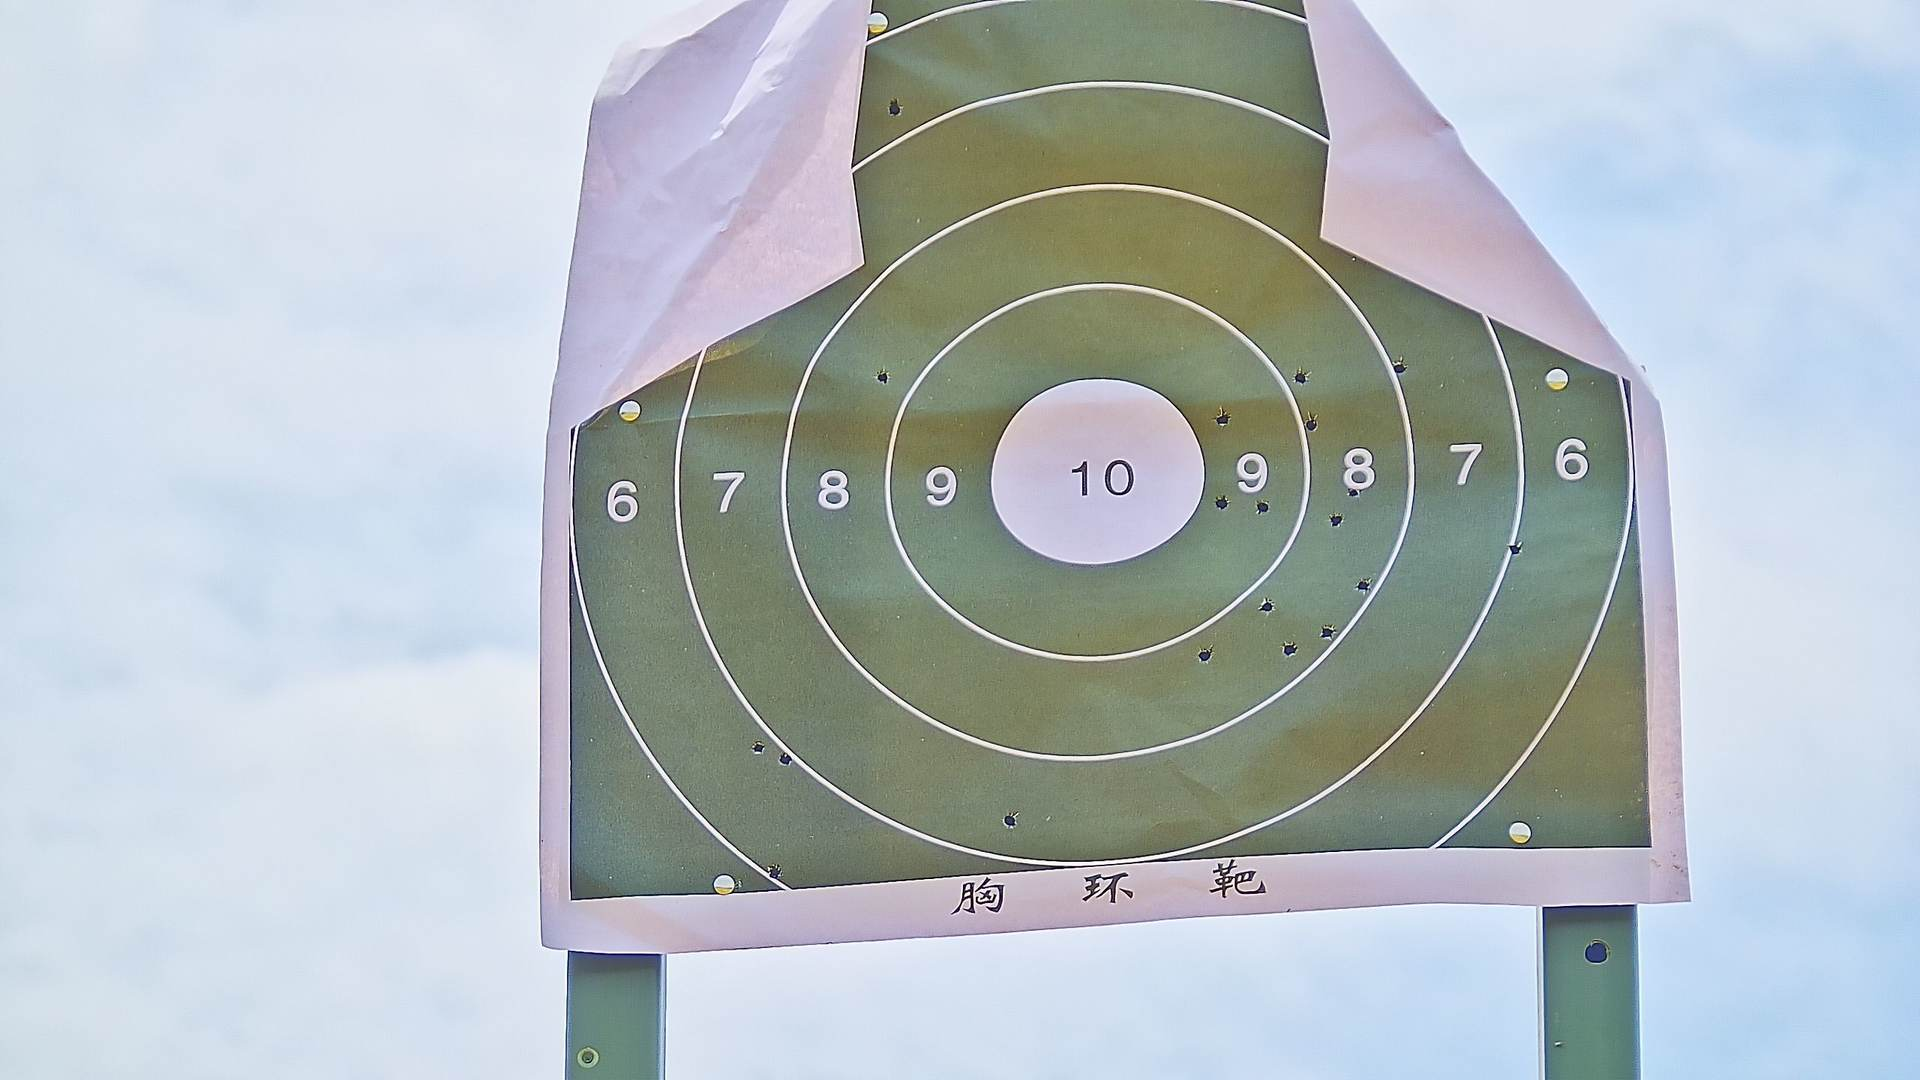hole: (1197, 642, 1213, 663), (887, 99, 905, 117), (1215, 410, 1234, 426), (1211, 495, 1229, 510), (1255, 497, 1271, 516), (876, 369, 893, 385), (1282, 640, 1298, 655), (1006, 812, 1021, 829), (1357, 578, 1371, 595), (1320, 622, 1335, 640), (769, 865, 785, 880), (1294, 369, 1309, 384), (1393, 360, 1408, 375), (1509, 541, 1524, 555), (1329, 508, 1342, 525), (1305, 415, 1320, 430), (1261, 597, 1271, 615), (1348, 485, 1360, 500), (749, 741, 762, 752), (781, 750, 790, 765)
kernel: (1096, 477, 1098, 484)
target: (574, 3, 1652, 897)
ten: (988, 378, 1207, 564)
